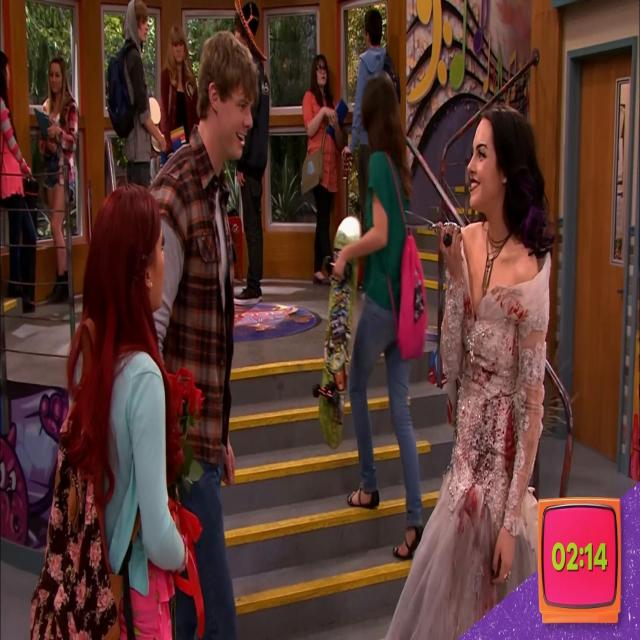scissor: (405, 208, 462, 247)
